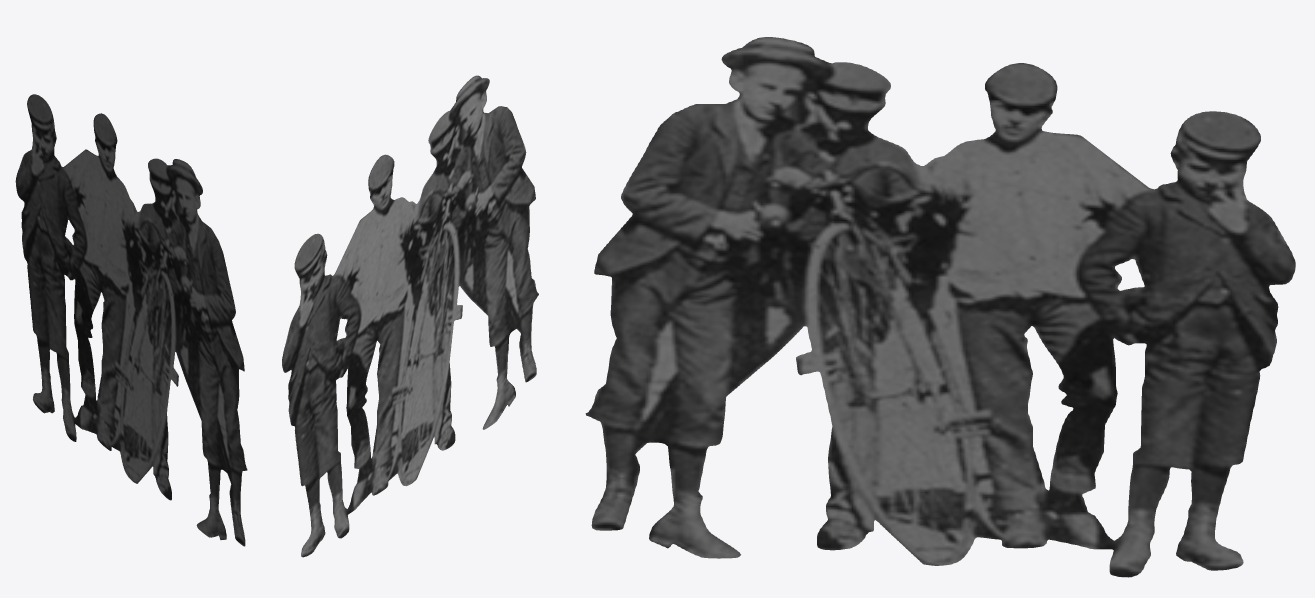
File: Old_Boys_with_Bike.FBX
The picture shows the model from 3 angles, left to right: view 1: azimuth 30°, elevation 25°; view 2: azimuth 150°, elevation 25°; view 3: azimuth 270°, elevation 25°; orthographic projection. The views are drawn at different scales.
Visible parts, largest first — view 1: Boy_with_bike; view 2: Boy_with_bike; view 3: Boy_with_bike.
Boxes of the visible parts, left/top/right/bottom form: Boy_with_bike: left=15, top=94, right=247, bottom=546; Boy_with_bike: left=282, top=75, right=538, bottom=557; Boy_with_bike: left=585, top=37, right=1295, bottom=577.
Bounding box in the file's own units: 5.42 × 170 × 200.
Materials: 1 (1 with a texture image).
